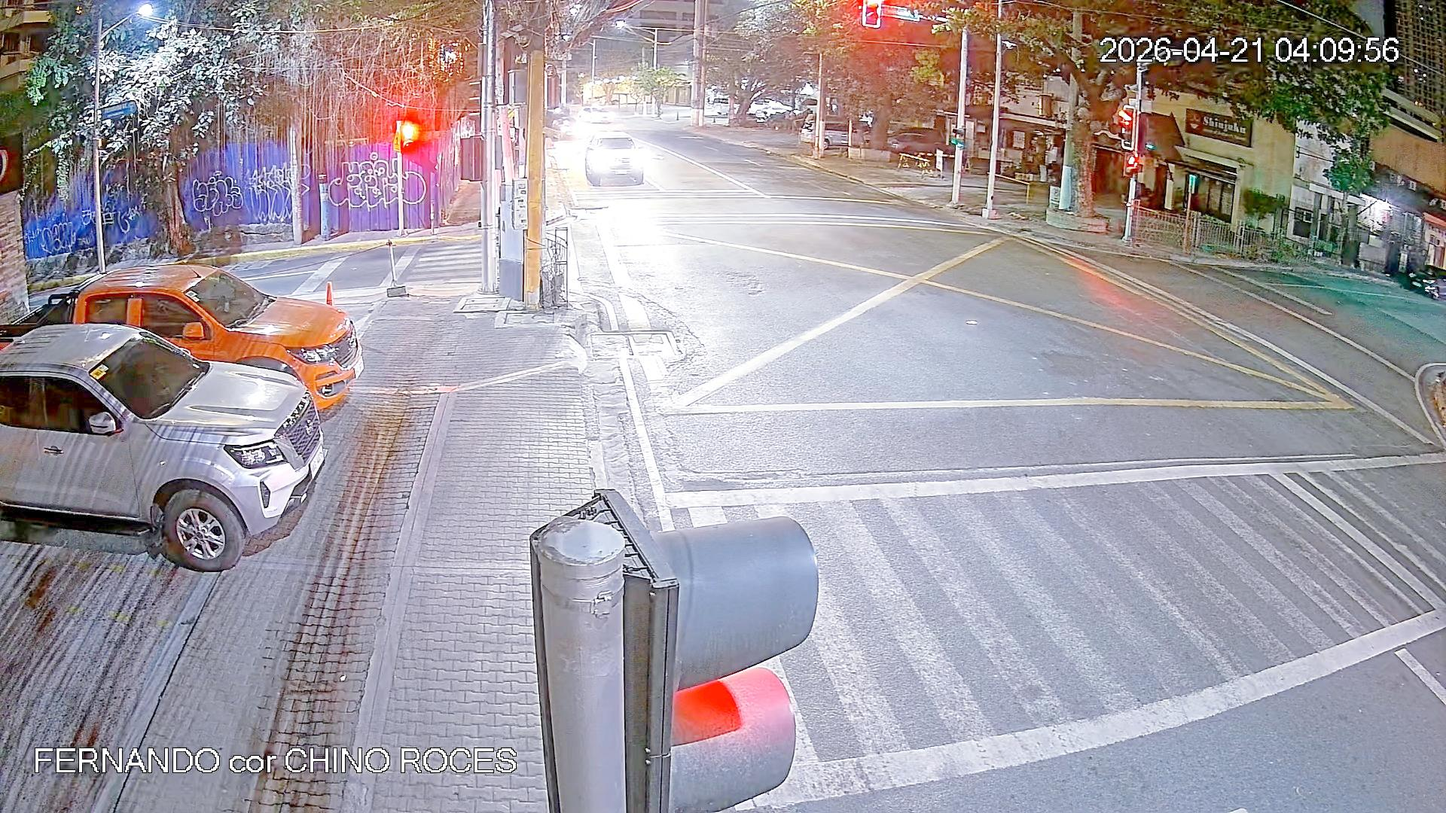Car: (0, 318, 342, 566), (66, 259, 383, 432), (572, 131, 659, 195), (799, 114, 866, 152), (888, 128, 951, 160), (1405, 262, 1446, 301), (577, 104, 615, 127)
